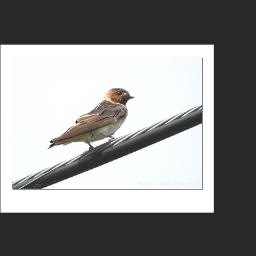Swallow: (45, 86, 135, 153)
